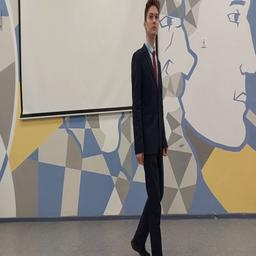person: (131, 1, 168, 256)
